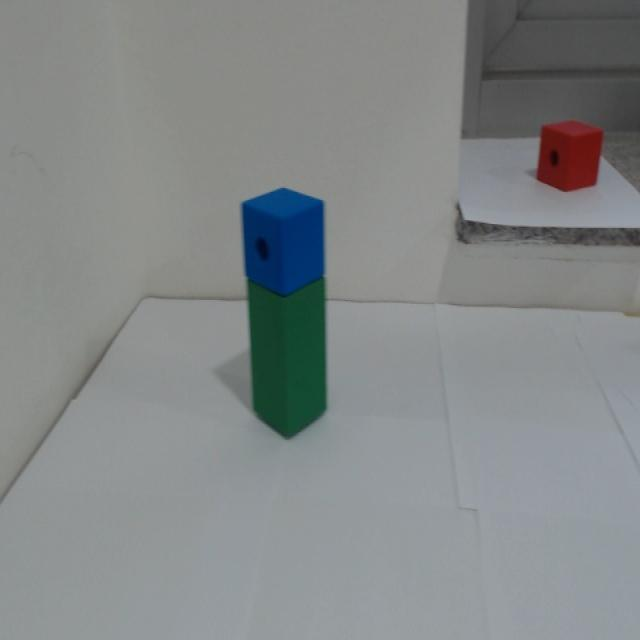cube: (235, 179, 344, 302)
